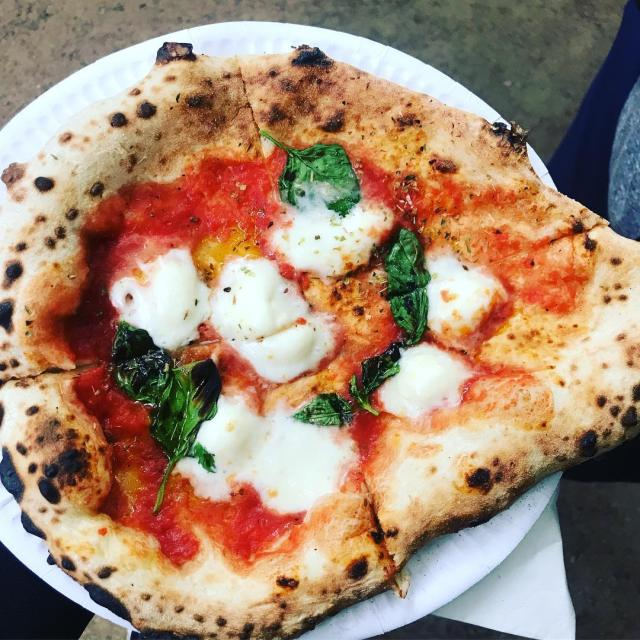basil: (144, 361, 222, 473), (276, 144, 363, 220), (383, 226, 431, 350), (113, 323, 174, 405), (352, 342, 406, 414), (292, 394, 353, 429)
pizza: (0, 38, 640, 640)
